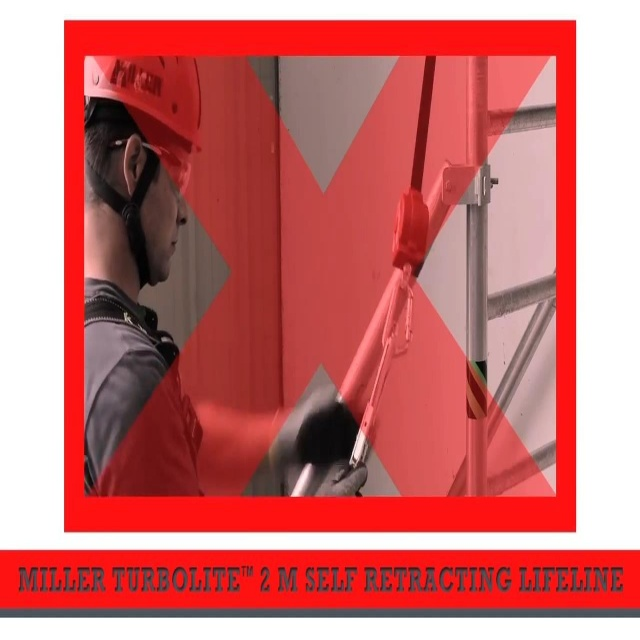Arnes_seguridad: (67, 251, 213, 523)
